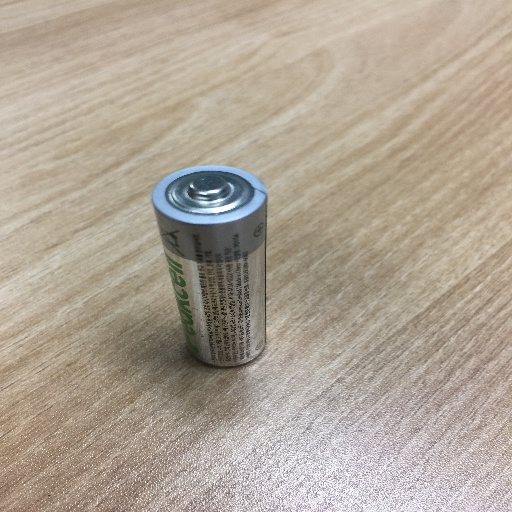Battery_0: (140, 149, 302, 382)
